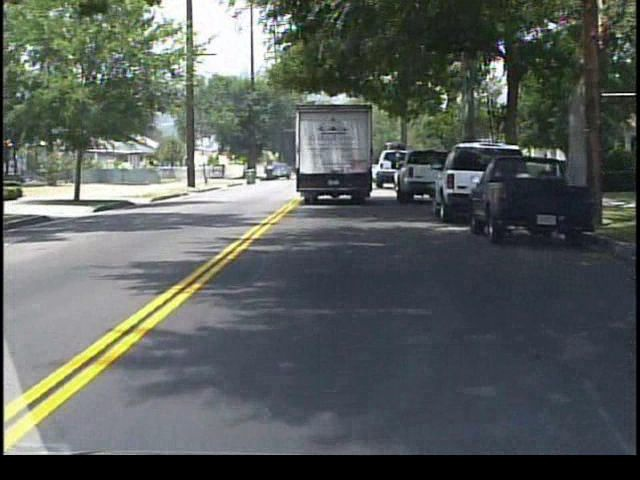person: (221, 163, 228, 182)
